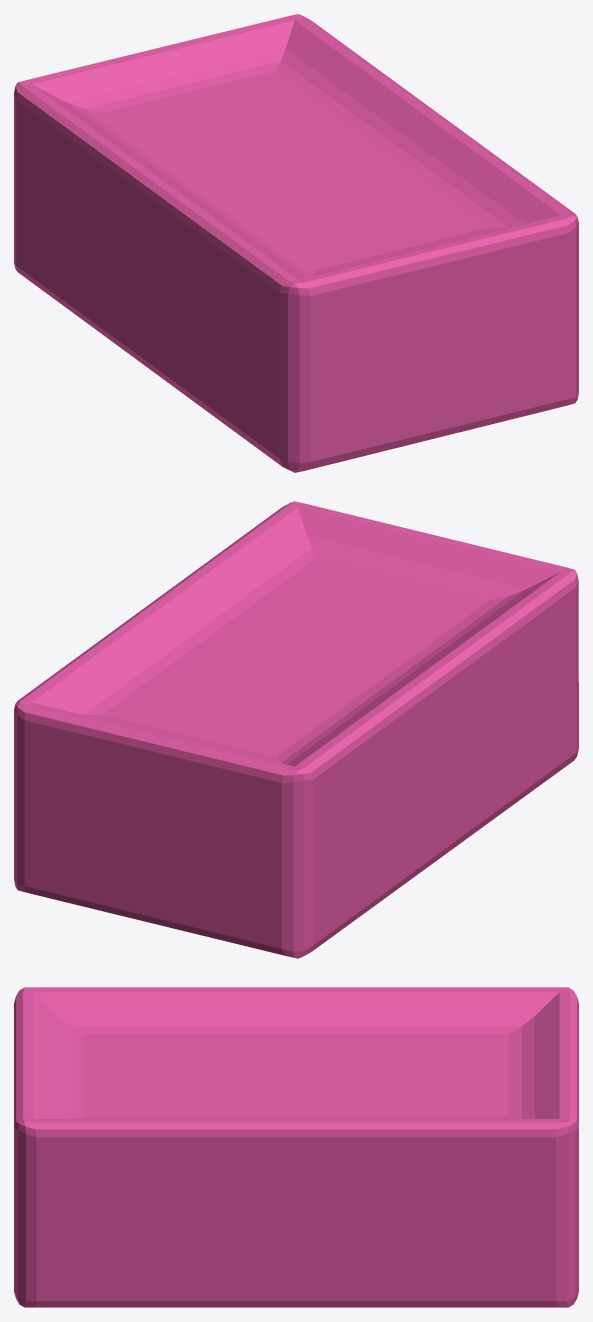
Rendered from soap.fbx.
The picture shows the model from 3 angles, top to bottom: view 1: azimuth 30°, elevation 25°; view 2: azimuth 150°, elevation 25°; view 3: azimuth 270°, elevation 25°; orthographic projection.
Visible parts, largest first — view 1: Cube; view 2: Cube; view 3: Cube.
Part boxes in pixels (<box>): Cube: <box>14,14,578,472</box>; Cube: <box>14,501,578,958</box>; Cube: <box>14,987,578,1307</box>.
Bounding box in the file's own units: 60 × 36.52 × 100.
